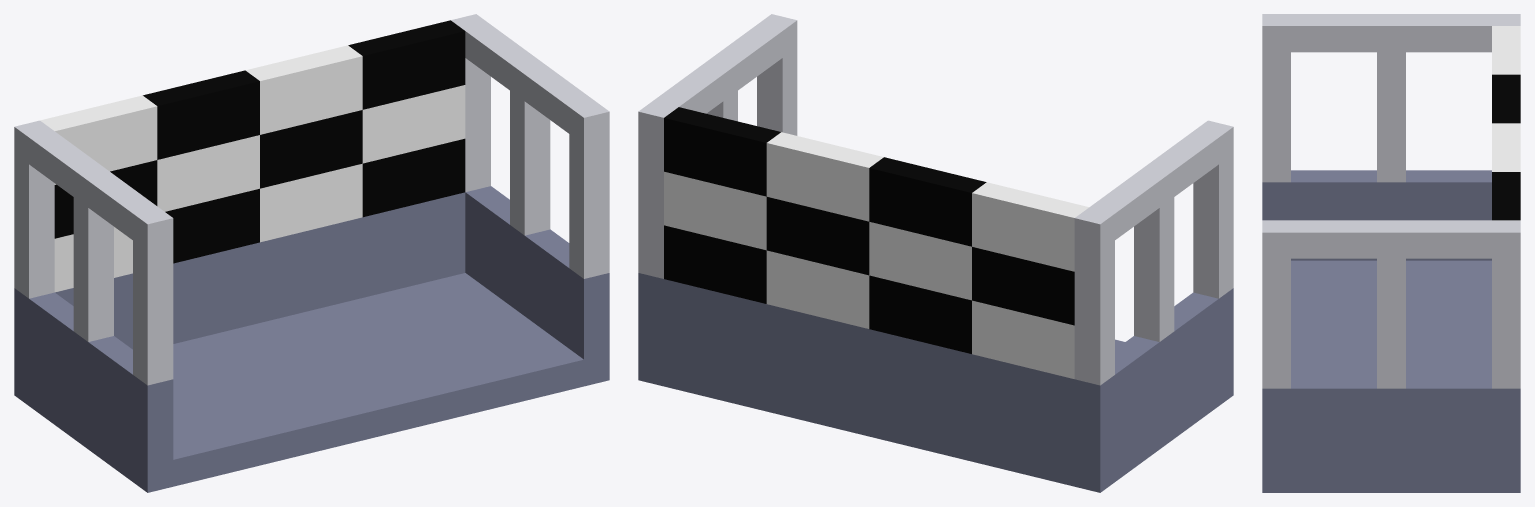
3 views of the same model, side by side, from view 1: azimuth 30°, elevation 25°; view 2: azimuth 150°, elevation 25°; view 3: azimuth 270°, elevation 25° (orthographic). The views are drawn at different scales.
Visible parts, largest first — view 1: cube (×24); view 2: cube (×23); view 3: cube (×14).
Boxes of the visible parts, x1,y1,x2,y2 form: cube (×24): (14, 14, 609, 492); cube (×23): (638, 14, 1233, 492); cube (×14): (1262, 14, 1520, 492).
Size of the model in its own units: 2.25 by 1.25 by 1.13.
4 materials, 4 textured.
